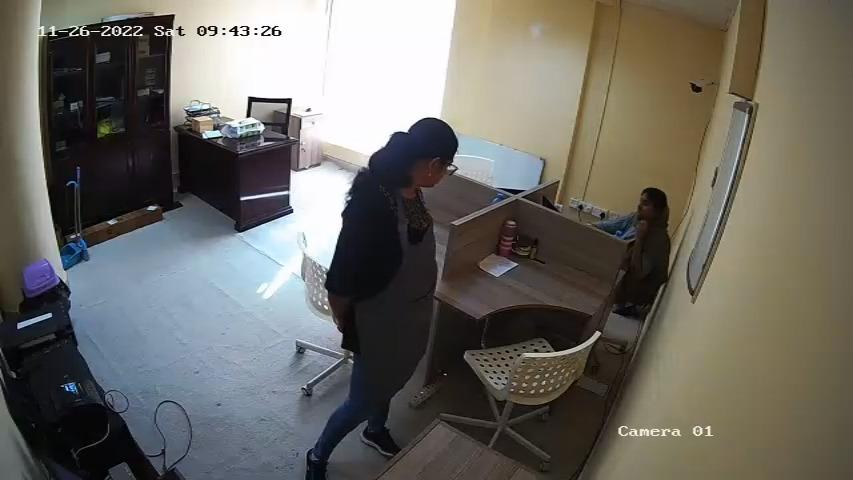apron: (379, 194, 435, 353)
